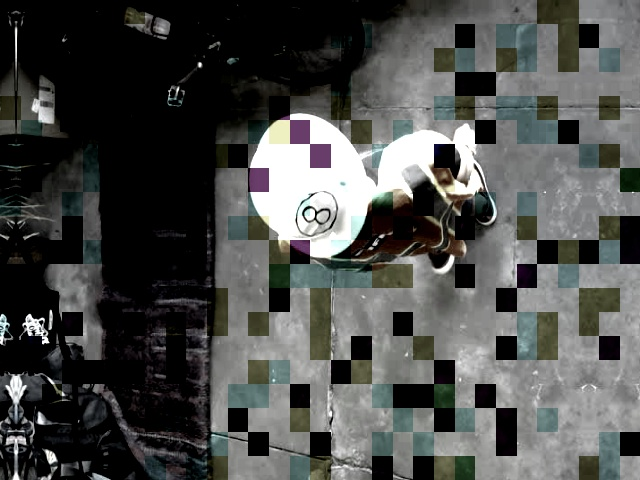eight: (296, 189, 337, 236)
